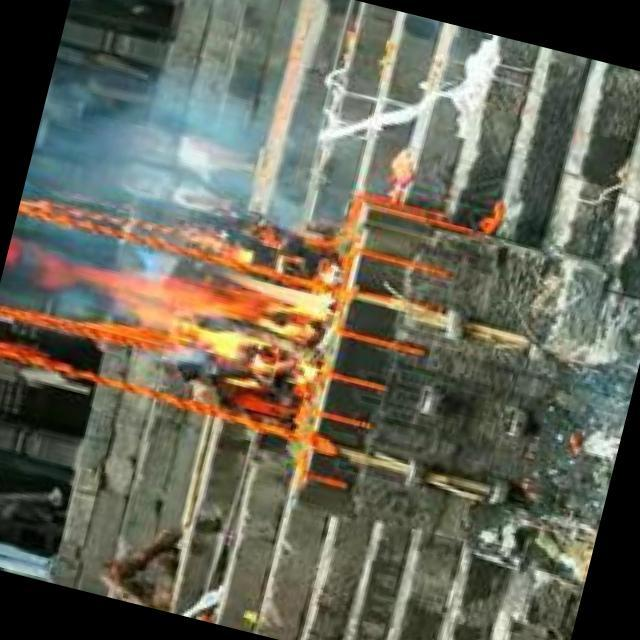Fire: (107, 236, 342, 384)
